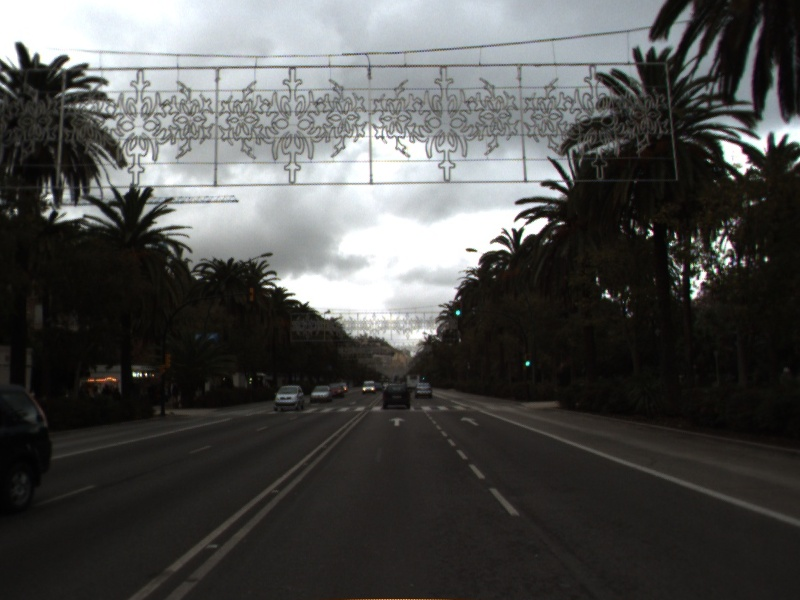STRAIGHT: (458, 414, 481, 428), (387, 415, 408, 428)
